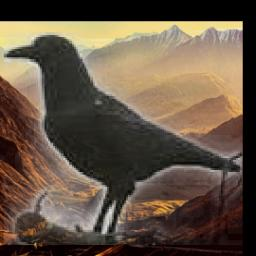Crow: (4, 32, 243, 245)
